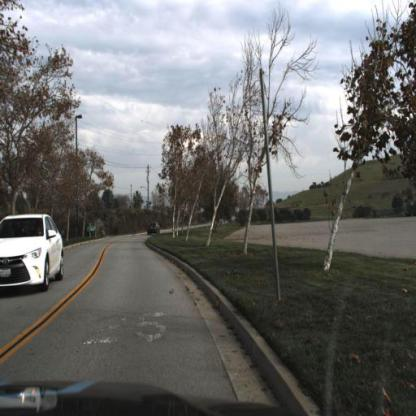car: (2, 212, 66, 298), (146, 219, 163, 239)
